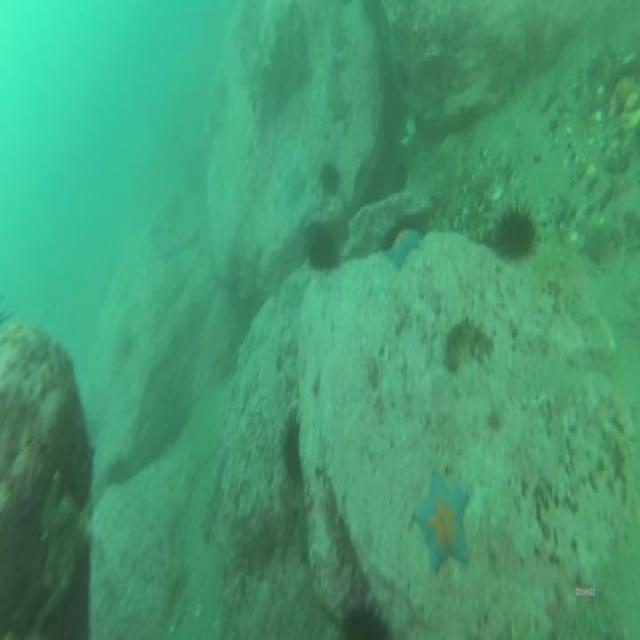echinus: (498, 208, 534, 258), (280, 422, 304, 483), (343, 610, 382, 640), (308, 235, 337, 272), (322, 162, 338, 190)
holothurian: (446, 319, 492, 368)
starfish: (415, 474, 470, 567), (386, 230, 420, 266)
